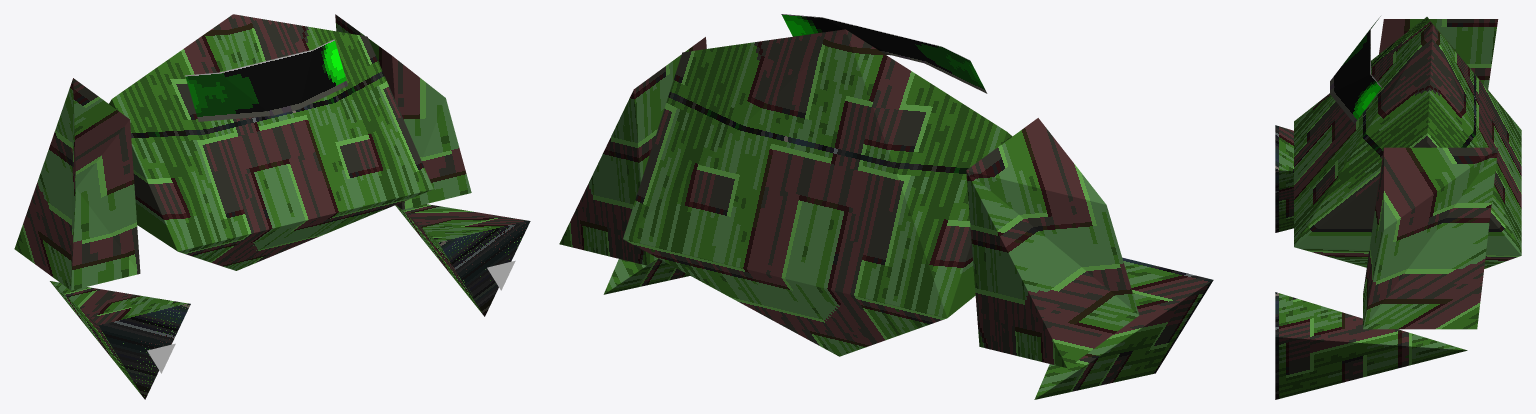
Rendered from model_034_robot_noname.glb.
3 renders of one model, left to right at view 1: azimuth 30°, elevation 25°; view 2: azimuth 150°, elevation 25°; view 3: azimuth 270°, elevation 25°, orthographic. The views are drawn at different scales.
Parts seen in each view (by area): view 1: model_034; view 2: model_034; view 3: model_034.
Part boxes in pixels (left/top/right/bottom): model_034: left=14, top=14, right=530, bottom=399; model_034: left=559, top=14, right=1213, bottom=399; model_034: left=1275, top=16, right=1521, bottom=399.
Bounding box in the file's own units: 9 × 5.74 × 5.01.
Materials: 3 (2 with a texture image).
